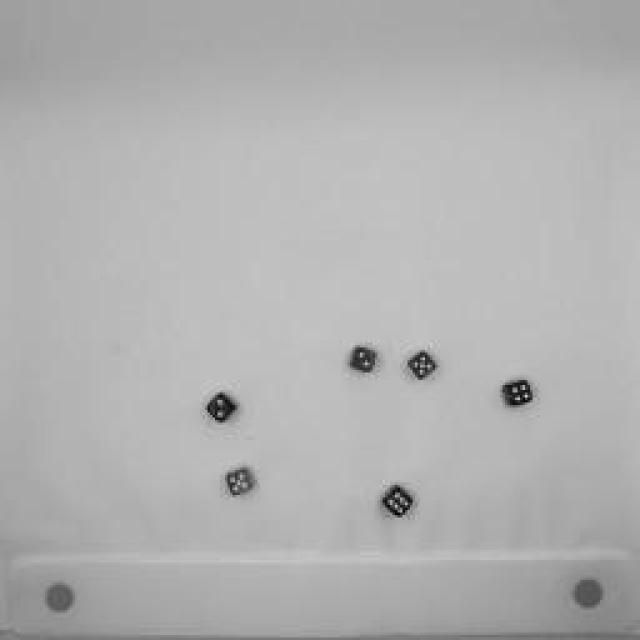dice_2: (201, 387, 244, 425), (346, 344, 382, 376)
dice_4: (498, 375, 540, 410)
dice_5: (402, 345, 440, 385), (221, 462, 259, 502)
dice_6: (376, 482, 419, 522)
